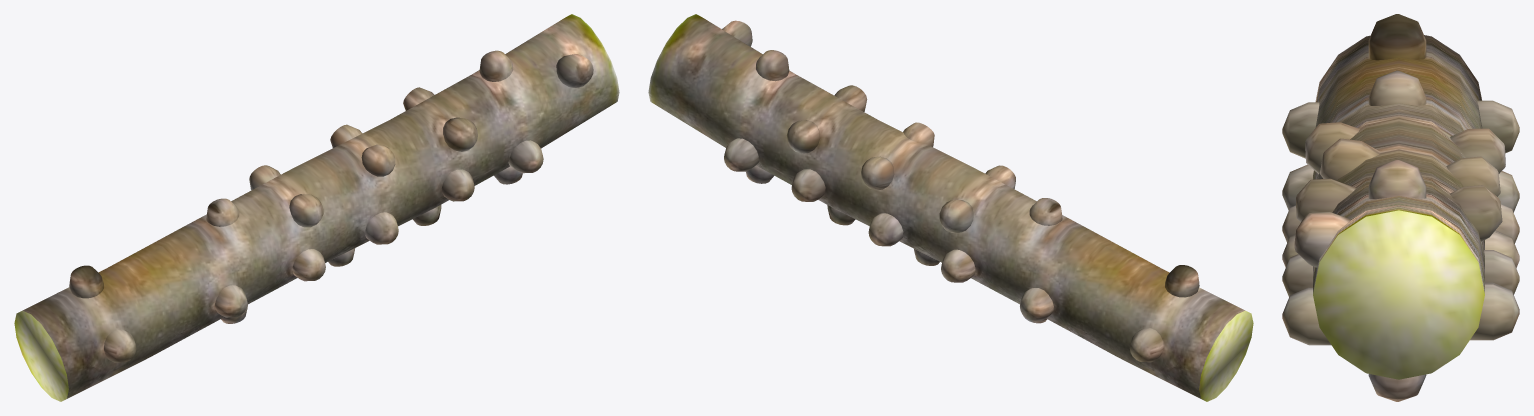
File: brotowali.glb
3 views of the same model, side by side, from view 1: azimuth 30°, elevation 25°; view 2: azimuth 150°, elevation 25°; view 3: azimuth 270°, elevation 25° (orthographic). The views are drawn at different scales.
Parts seen in each view (by area): view 1: Cylinder.001; view 2: Cylinder.001; view 3: Cylinder.001.
Part boxes in pixels (x1=…): Cylinder.001: x1=14, y1=14, x2=619, y2=401; Cylinder.001: x1=648, y1=14, x2=1253, y2=401; Cylinder.001: x1=1282, y1=14, x2=1519, y2=401.
Size of the model in its own units: 0.4618 by 0.1938 by 0.0974.
Materials: 1 (1 with a texture image).
